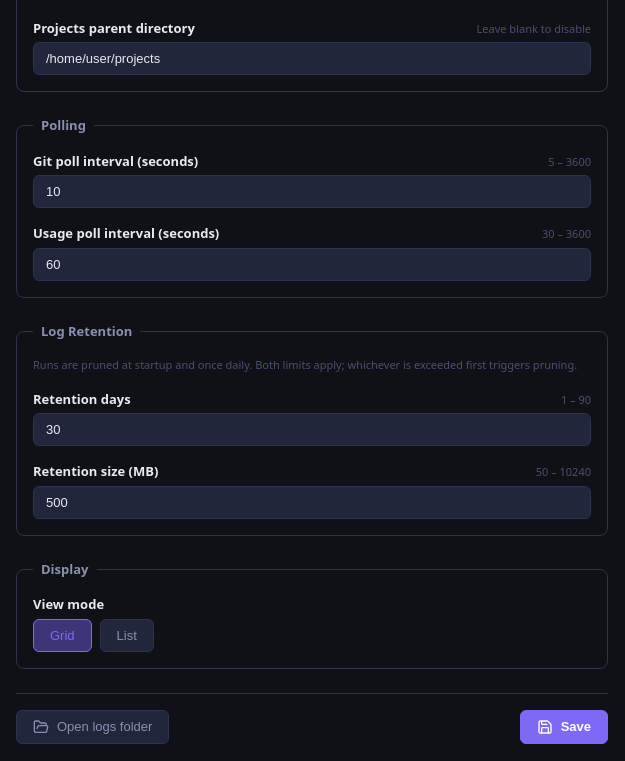
Settings screen — save happy path › shows save error when updateSettings rejects
(page scrolled)
Expected: the number field labelled "Git poll interval (seconds) 5 – 3600" is shown, [33,175,591,208]
Step 1. Click the button with aria-label "save settings" → (564, 726), box [520,710,608,744]
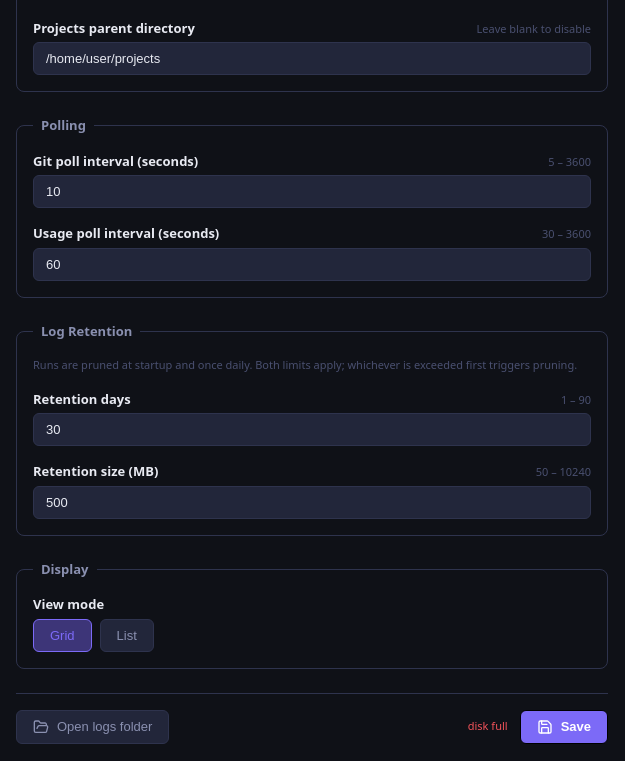
Result: the message "disk full" is shown at [468,718,508,735]
